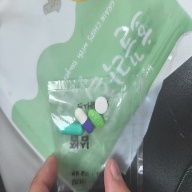러키펜정: (94, 97, 109, 116)
씨엠지세파클러캡슐: (74, 108, 95, 134)
에르도캡슐: (58, 123, 84, 137)
휴티렌정: (87, 109, 105, 129)
